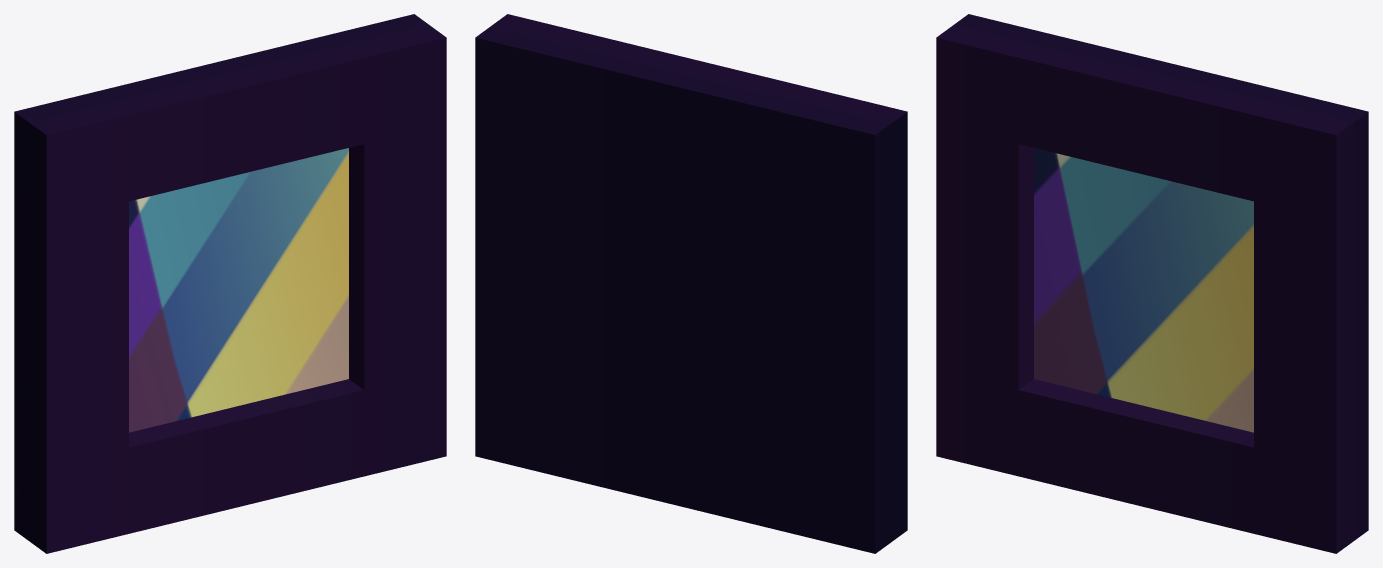
The model's file is Photoframe.fbx.
3 renders of one model, left to right at view 1: azimuth 30°, elevation 25°; view 2: azimuth 150°, elevation 25°; view 3: azimuth 330°, elevation 25°, orthographic.
Visible parts, largest first — view 1: Photoframe01; view 2: Photoframe01; view 3: Photoframe01.
Part boxes in pixels (bbox=[...]): Photoframe01: bbox=[14, 14, 446, 553]; Photoframe01: bbox=[475, 14, 907, 553]; Photoframe01: bbox=[936, 14, 1368, 553].
Bounding box in the file's own units: 25 × 25 × 3.5.
